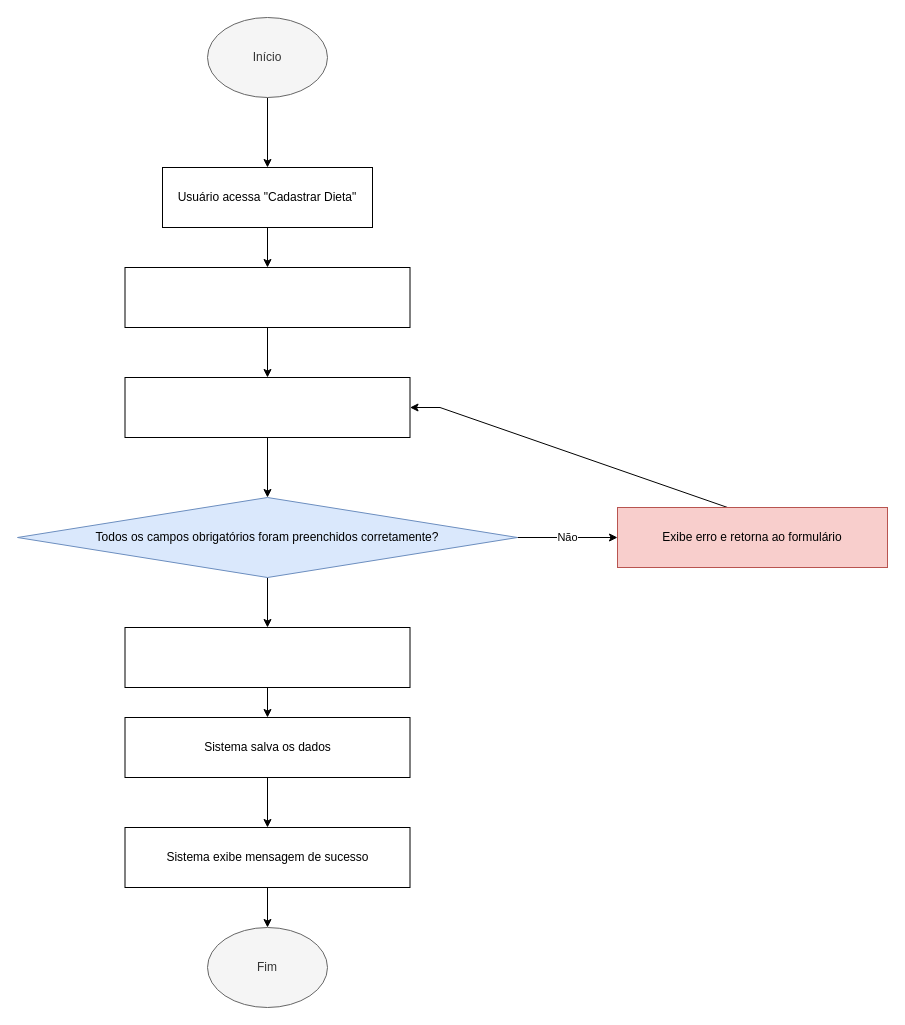
Image size: 905x1025. Some labels were removed from this diagram. Each missing label, with the centre of its shape:
Sistema exibe formulário para preenchimento: point (267, 297)
Usuário confirma o cadastro: point (267, 657)
Usuário preenche os dados: point (267, 407)
